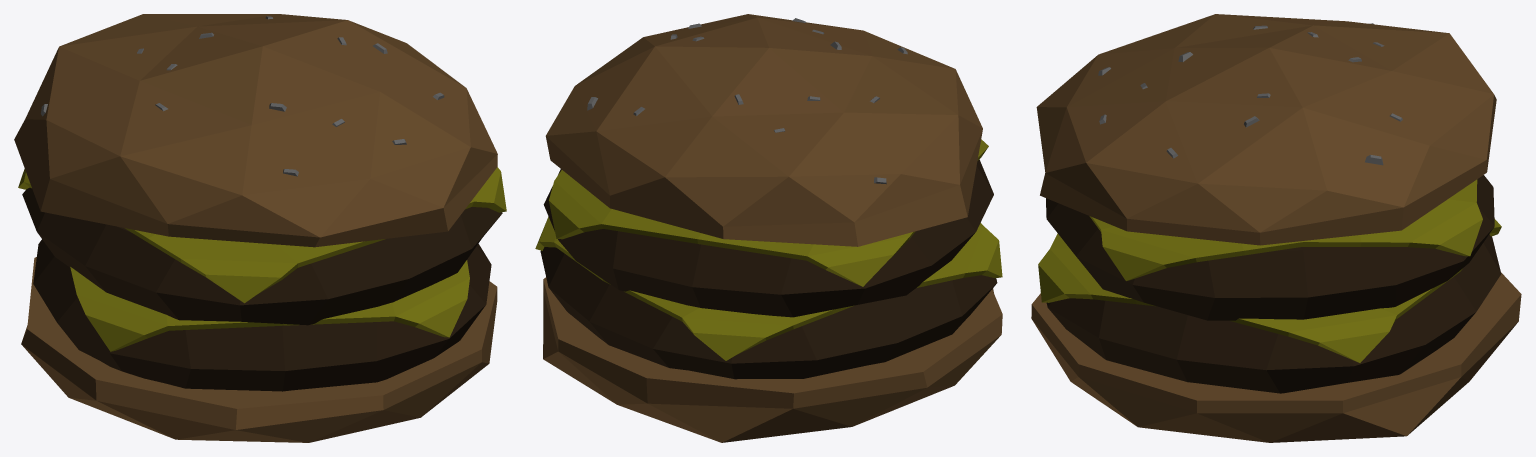
File: DoubleCheeseburger.obj
The picture shows the model from 3 angles, left to right: view 1: azimuth 30°, elevation 25°; view 2: azimuth 150°, elevation 25°; view 3: azimuth 270°, elevation 25°; orthographic projection. The views are drawn at different scales.
Visible parts, largest first — view 1: DoubleCheeseburger_Cube.024; view 2: DoubleCheeseburger_Cube.024; view 3: DoubleCheeseburger_Cube.024.
Part boxes in pixels (<box>): DoubleCheeseburger_Cube.024: <box>14,14,506,442</box>; DoubleCheeseburger_Cube.024: <box>535,14,1002,442</box>; DoubleCheeseburger_Cube.024: <box>1031,14,1521,442</box>.
Bounding box in the file's own units: 1.49 × 1.2 × 1.54.
